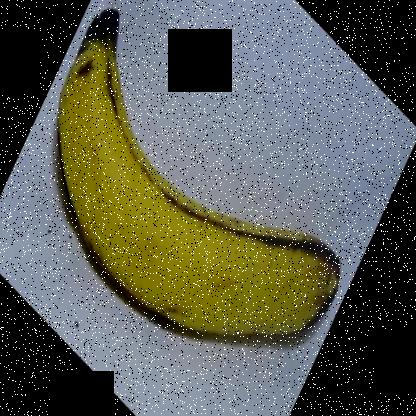ripe: (49, 0, 342, 360)
